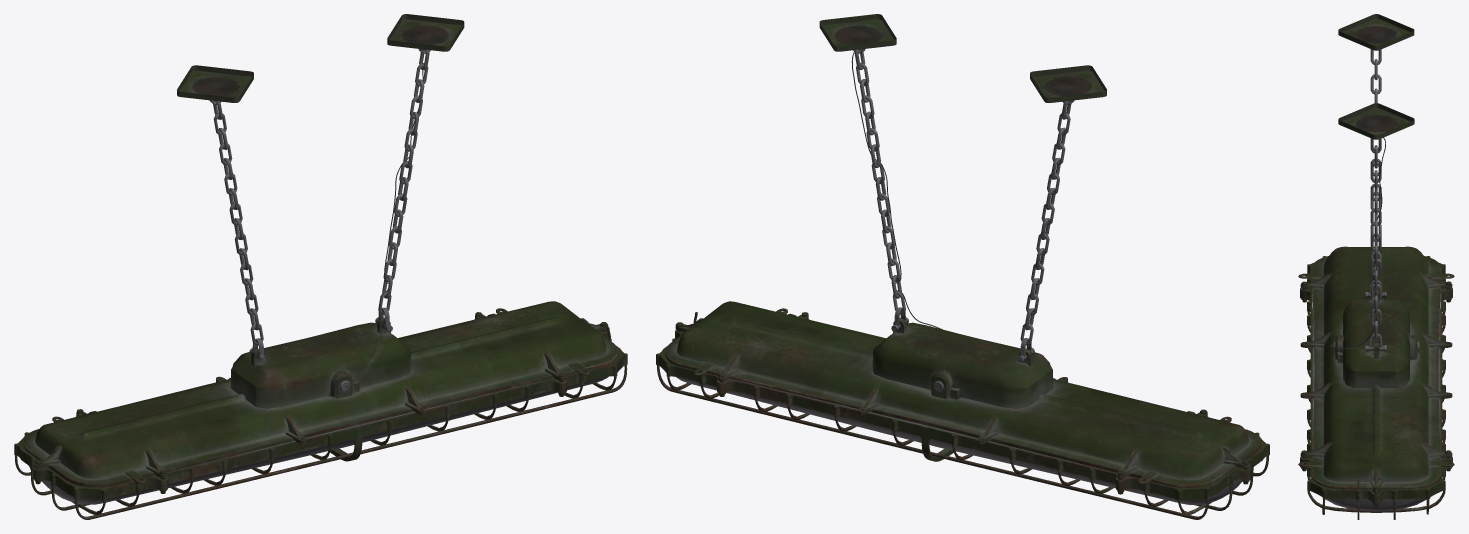
File: caged_hanging_light.glb
The picture shows the model from 3 angles, left to right: view 1: azimuth 30°, elevation 25°; view 2: azimuth 150°, elevation 25°; view 3: azimuth 270°, elevation 25°; orthographic projection. The views are drawn at different scales.
Parts seen in each view (by area): view 1: caged_hanging_light; view 2: caged_hanging_light; view 3: caged_hanging_light.
Boxes of the visible parts, <box> form: caged_hanging_light: <box>14,14,627,519</box>; caged_hanging_light: <box>656,14,1269,519</box>; caged_hanging_light: <box>1298,14,1454,519</box>.
Size of the model in its own units: 1.16 by 0.7501 by 0.3149.
Materials: 1 (1 with a texture image).
